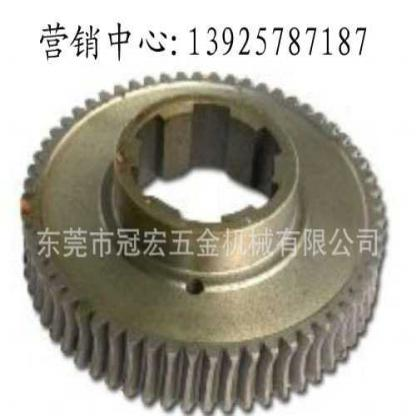FOD: (14, 66, 392, 415)
